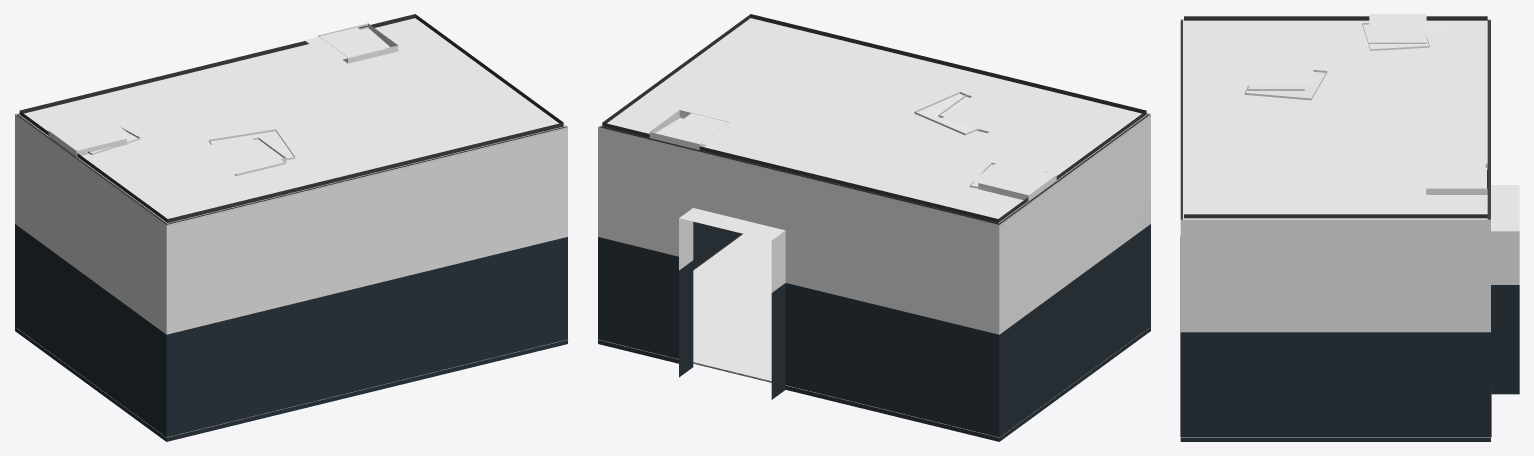
The model's file is SM_H_Building_Tide_OfficeLobby_05_ATLAS.fbx.
The picture shows the model from 3 angles, left to right: view 1: azimuth 30°, elevation 25°; view 2: azimuth 150°, elevation 25°; view 3: azimuth 270°, elevation 25°; orthographic projection. The views are drawn at different scales.
Parts seen in each view (by area): view 1: SM_H_Building_Tide_OfficeLobby_05_ATLAS; view 2: SM_H_Building_Tide_OfficeLobby_05_ATLAS; view 3: SM_H_Building_Tide_OfficeLobby_05_ATLAS.
Boxes of the visible parts, x1,y1,x2,y2 form: SM_H_Building_Tide_OfficeLobby_05_ATLAS: (14, 14, 568, 441); SM_H_Building_Tide_OfficeLobby_05_ATLAS: (597, 14, 1151, 441); SM_H_Building_Tide_OfficeLobby_05_ATLAS: (1180, 14, 1519, 441).
Size of the model in its own units: 696 by 497 by 370.
